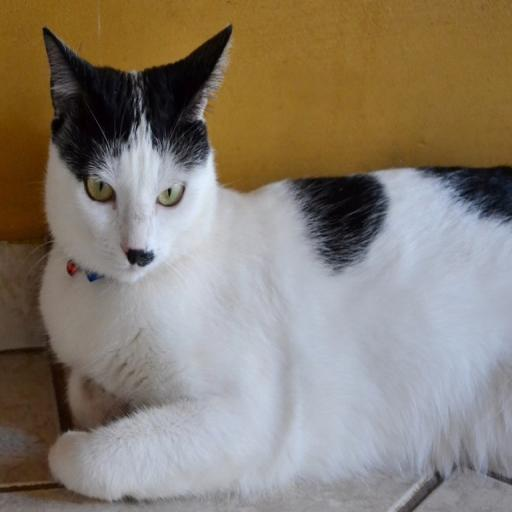cat: (39, 24, 512, 502)
